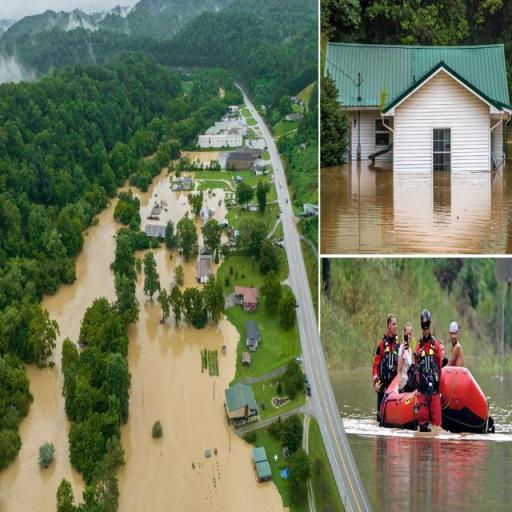flood: (118, 277, 285, 512), (0, 200, 119, 512), (335, 376, 512, 512), (322, 162, 512, 264), (138, 173, 190, 228), (154, 248, 196, 288), (205, 190, 225, 220), (183, 153, 217, 163)
house: (326, 40, 508, 182), (221, 378, 262, 425), (233, 282, 260, 311), (252, 446, 274, 481), (198, 134, 244, 148), (244, 320, 262, 350), (198, 247, 213, 280), (228, 151, 253, 170), (146, 222, 167, 240), (213, 121, 246, 130), (300, 202, 318, 217), (284, 113, 302, 121), (242, 352, 252, 365), (183, 176, 192, 190), (229, 106, 240, 116)
